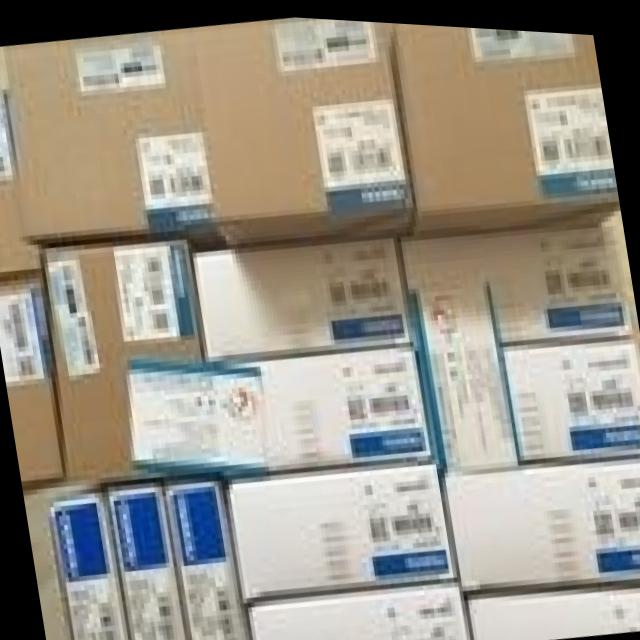box: (193, 14, 418, 242), (0, 30, 227, 248), (387, 18, 620, 226), (42, 237, 217, 481), (400, 198, 640, 350), (227, 458, 458, 605), (210, 336, 444, 477), (420, 326, 640, 467), (192, 237, 413, 360), (441, 454, 640, 590), (247, 572, 475, 640), (165, 482, 250, 640), (0, 277, 64, 486), (104, 484, 189, 640), (46, 491, 129, 640), (468, 571, 640, 640), (0, 51, 42, 277)
